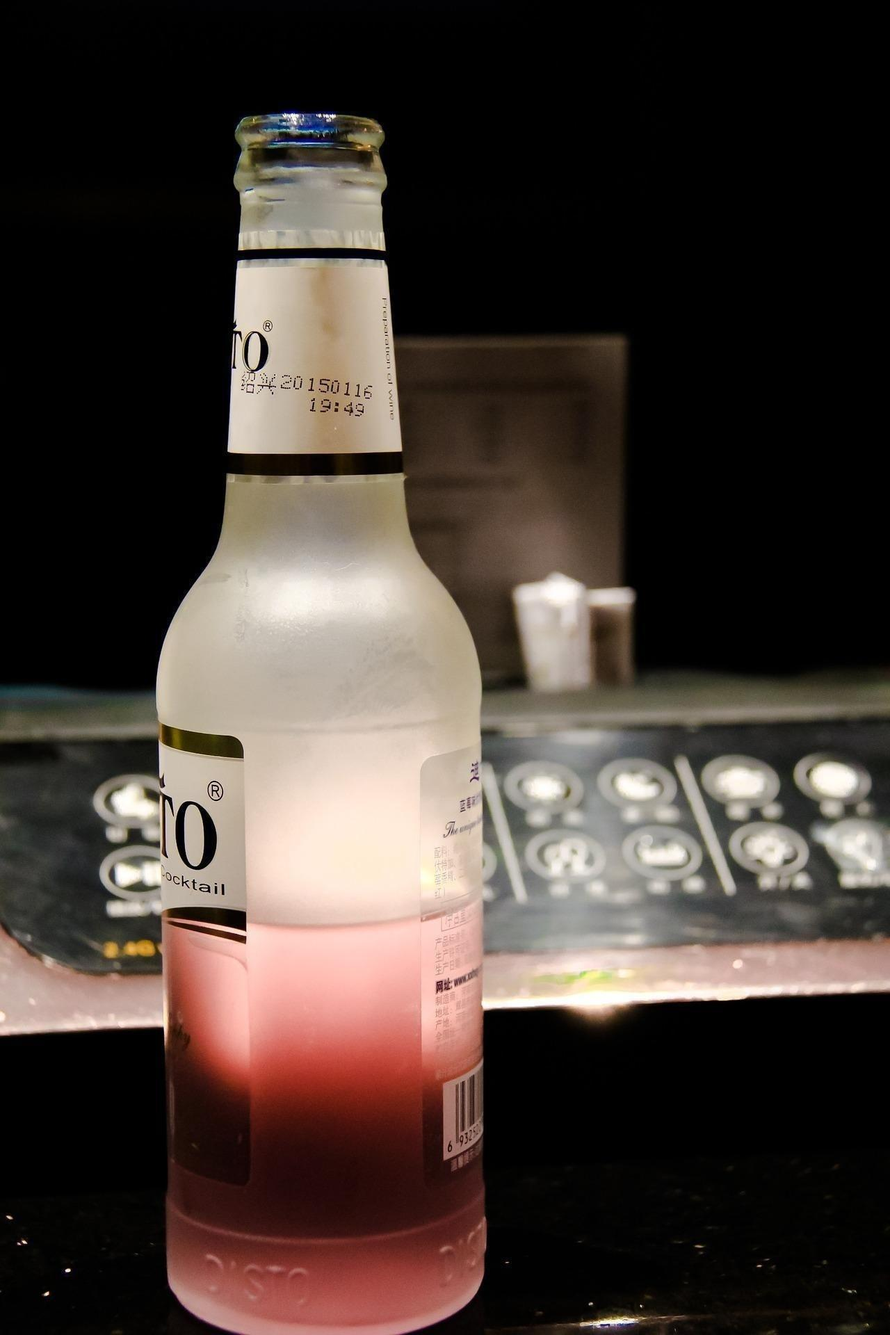bottle-glass: (153, 107, 492, 1334)
